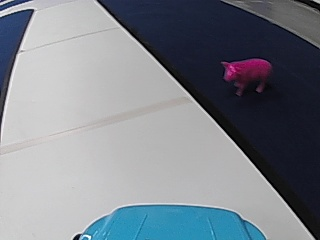pig: (218, 53, 272, 95)
